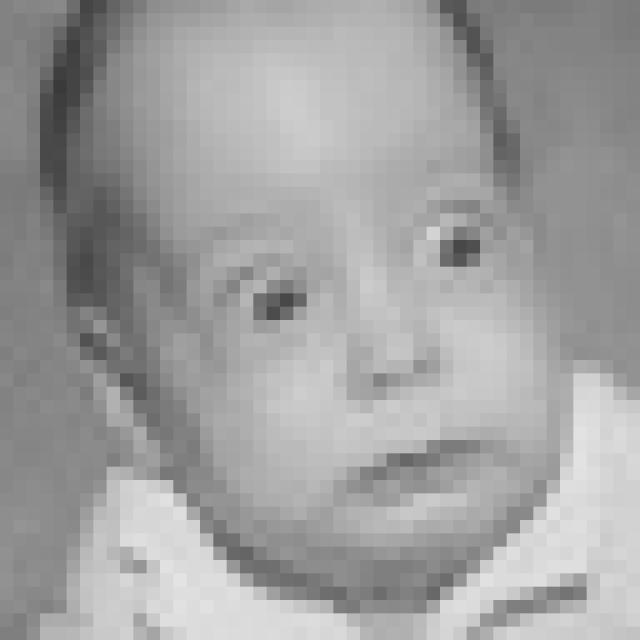fear: (185, 157, 528, 524)
